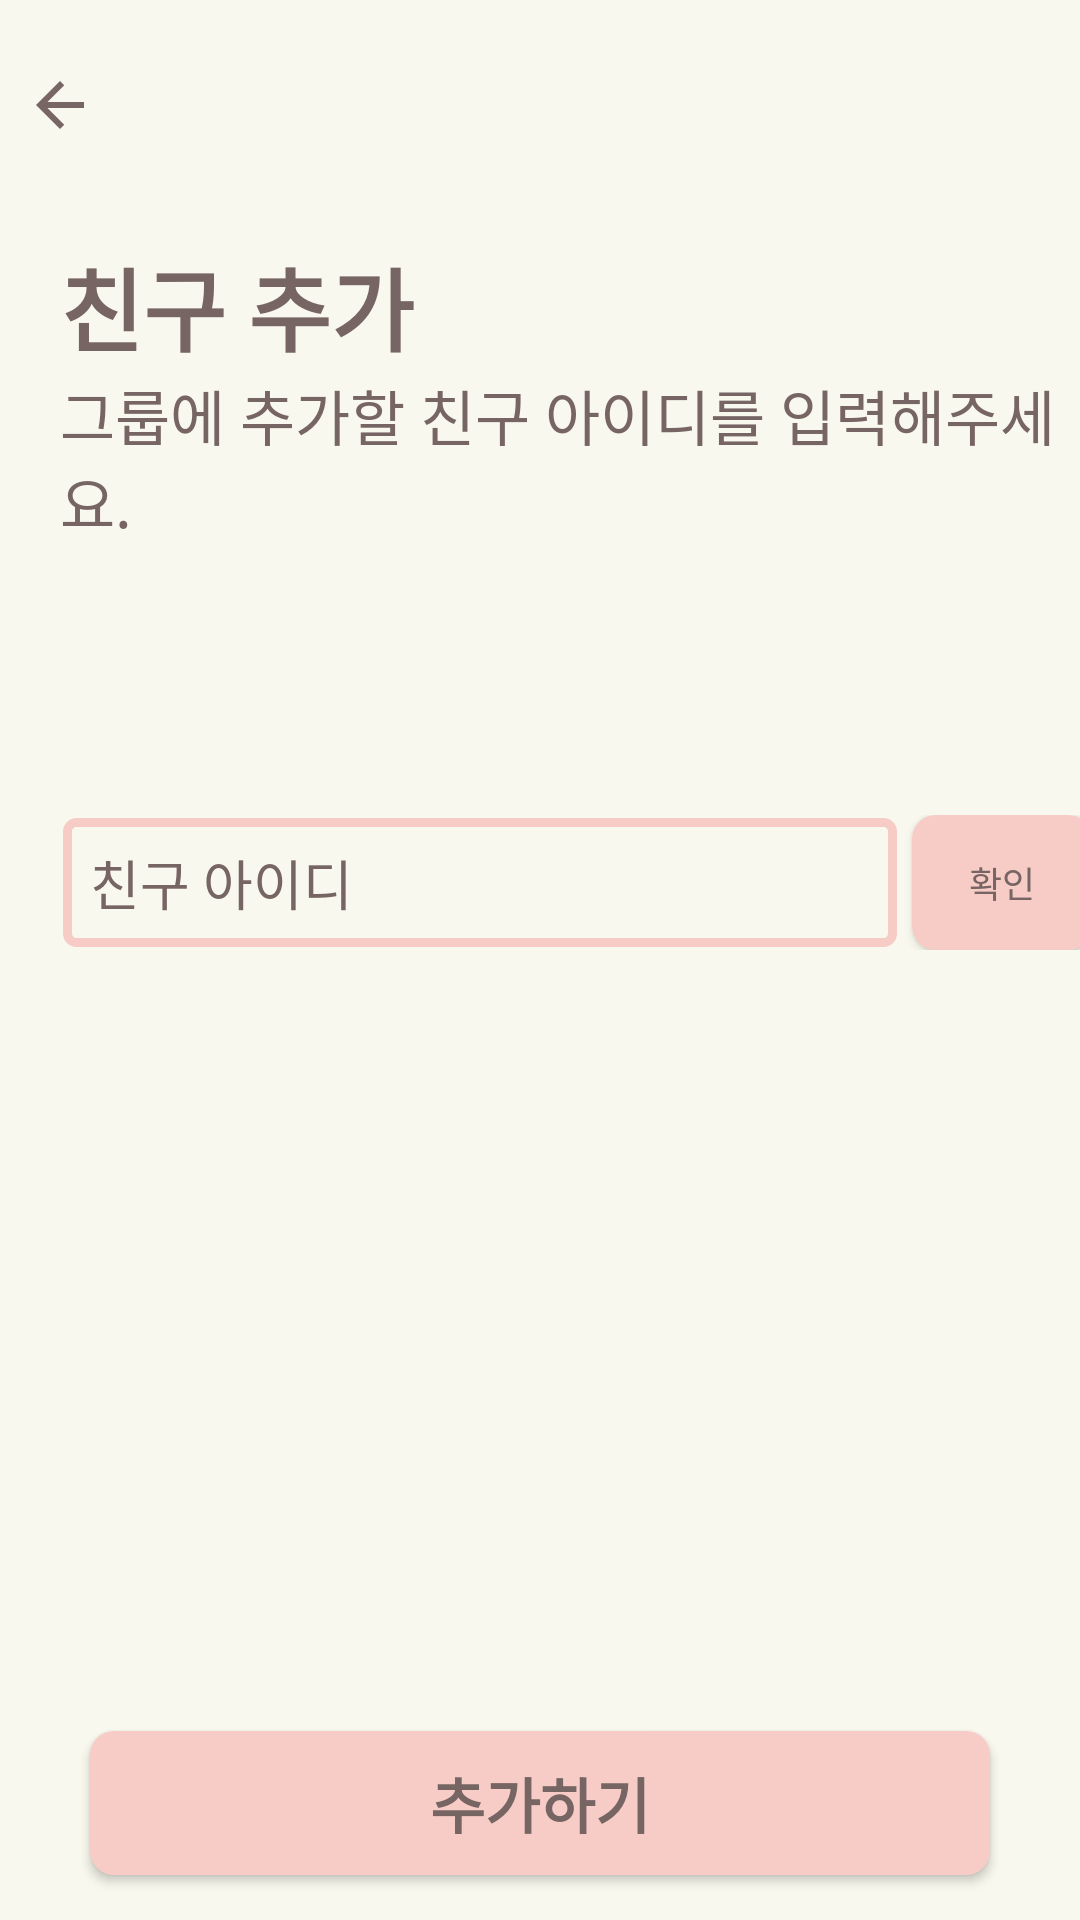

Locate icon controls on the screen. Image size 1080x1920, boxes as [left=x1, top=y1, right=x2, bottom=y2].
arrow back: [left=36, top=81, right=84, bottom=129]
